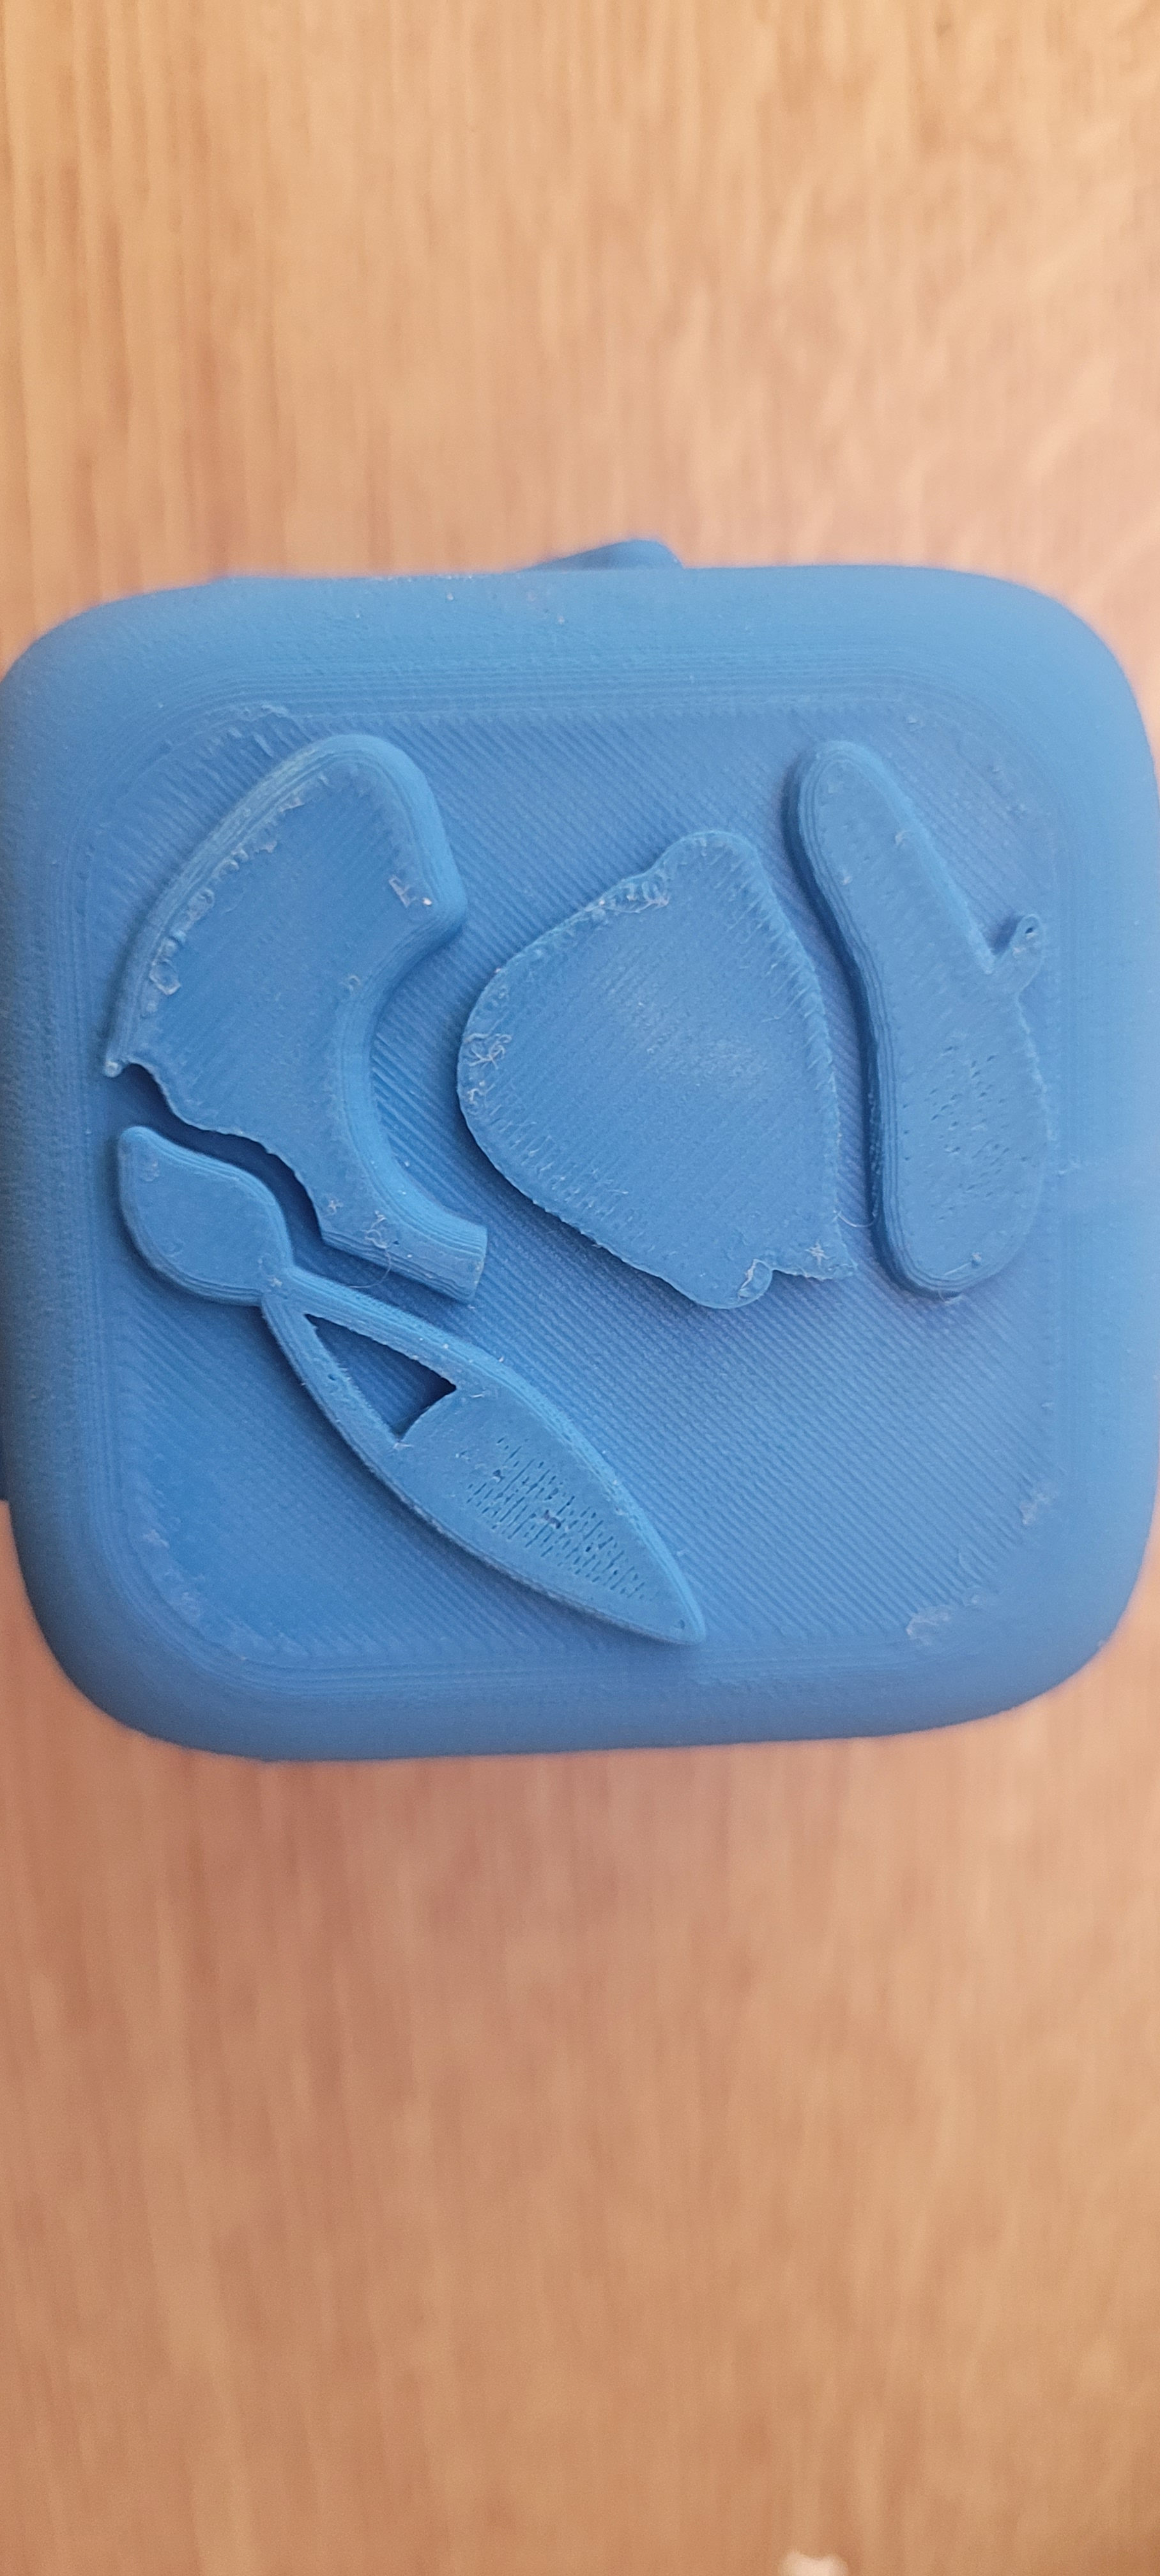Artist_Info: (11, 541, 1158, 1725)
